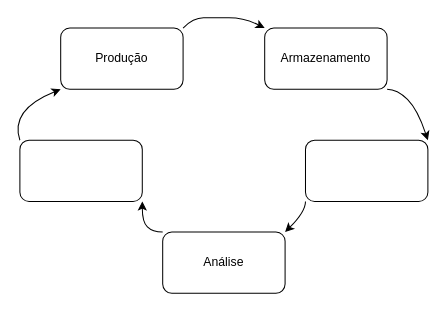
Some shapes in this 447 by 311 pixel diagram are drawn without their labels. The box of each missing label's shape, as (x1, y1, x2, y2) in pixels:
Descarte: (19, 139, 142, 201)
Transformação: (304, 139, 428, 201)
